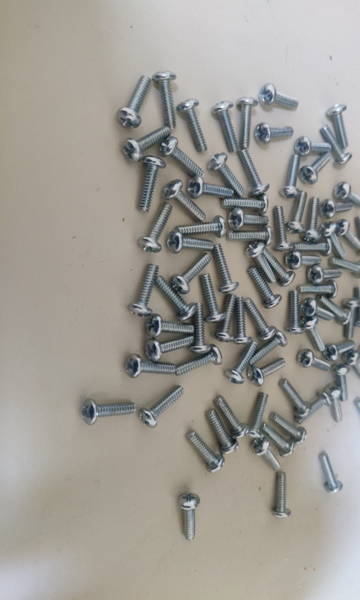shortscrew: (116, 75, 153, 130), (139, 385, 185, 428), (160, 137, 206, 179), (163, 179, 206, 223), (156, 277, 198, 321), (121, 127, 172, 163), (169, 253, 212, 295), (139, 202, 173, 254), (187, 430, 226, 474), (137, 156, 167, 213), (128, 264, 160, 317), (177, 99, 208, 153), (208, 153, 245, 198), (214, 395, 250, 440), (206, 409, 240, 456), (153, 70, 178, 130), (240, 149, 271, 197), (176, 344, 222, 376), (248, 266, 282, 309), (82, 398, 136, 425), (225, 341, 258, 385), (244, 298, 277, 342), (249, 330, 287, 367), (212, 101, 239, 153), (213, 244, 240, 294), (200, 274, 227, 323), (321, 126, 353, 167), (145, 336, 193, 363), (279, 379, 312, 418), (125, 354, 176, 379), (174, 215, 227, 239), (261, 422, 296, 458), (296, 390, 333, 424), (264, 248, 296, 287), (246, 242, 276, 283), (166, 230, 214, 255), (213, 293, 237, 343), (271, 413, 308, 445), (145, 314, 194, 338), (236, 98, 258, 150), (248, 358, 287, 387), (178, 493, 201, 542), (189, 303, 211, 354), (279, 154, 303, 200), (187, 177, 234, 200), (326, 104, 350, 149), (271, 471, 293, 519), (221, 194, 269, 216), (299, 153, 332, 185), (260, 83, 300, 109), (285, 190, 308, 235), (272, 207, 295, 252), (318, 295, 352, 325), (252, 438, 282, 472), (248, 392, 269, 440), (300, 315, 327, 352), (233, 296, 253, 345), (320, 222, 347, 258), (320, 452, 343, 494), (228, 208, 270, 231), (227, 225, 273, 246), (286, 290, 306, 336), (303, 197, 323, 242), (254, 123, 294, 145), (300, 298, 335, 322), (292, 237, 333, 257), (341, 297, 360, 340), (333, 220, 360, 250), (296, 349, 331, 372), (331, 363, 351, 402), (294, 136, 332, 156), (285, 251, 322, 270), (333, 182, 360, 208), (323, 341, 356, 362), (329, 257, 360, 279), (319, 199, 353, 219), (327, 384, 344, 423), (342, 350, 360, 381), (354, 286, 360, 328), (354, 216, 360, 256), (355, 398, 360, 434), (358, 342, 360, 373)
